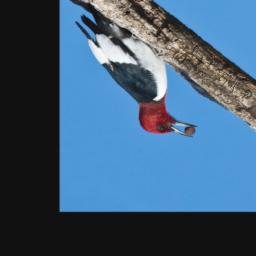Woodpecker: (73, 10, 199, 140)
